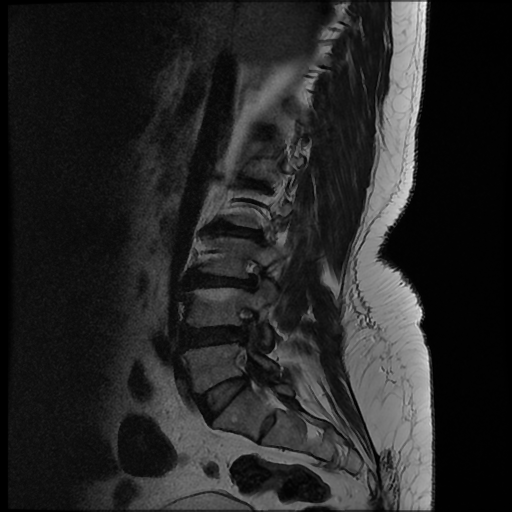RFS2: (233, 243, 285, 302)
